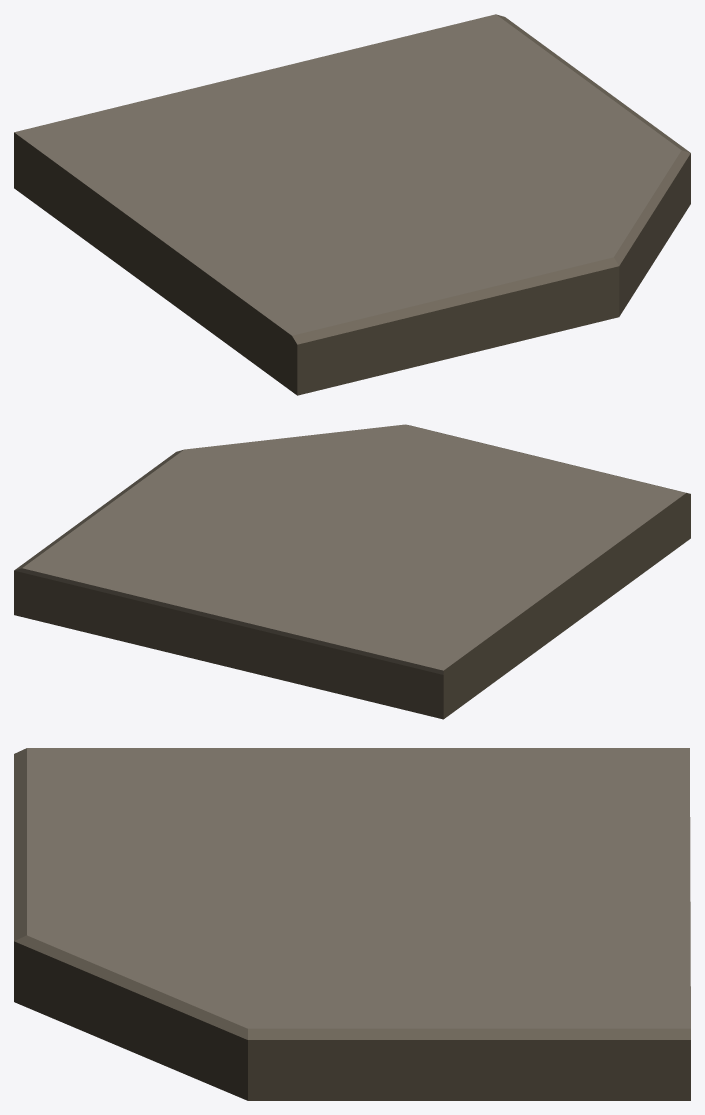
Rendered from Bottom_C3.fbx.
3 views of the same model, one above another, from view 1: azimuth 30°, elevation 25°; view 2: azimuth 150°, elevation 25°; view 3: azimuth 270°, elevation 25° (orthographic). The views are drawn at different scales.
Parts seen in each view (by area): view 1: Bottom_C3; view 2: Bottom_C3; view 3: Bottom_C3.
Part boxes in pixels (x1,y1,x2,y2): Bottom_C3: (14, 14, 690, 395); Bottom_C3: (14, 424, 690, 719); Bottom_C3: (14, 748, 690, 1100).
Bounding box in the file's own units: 613 × 66.63 × 613.
